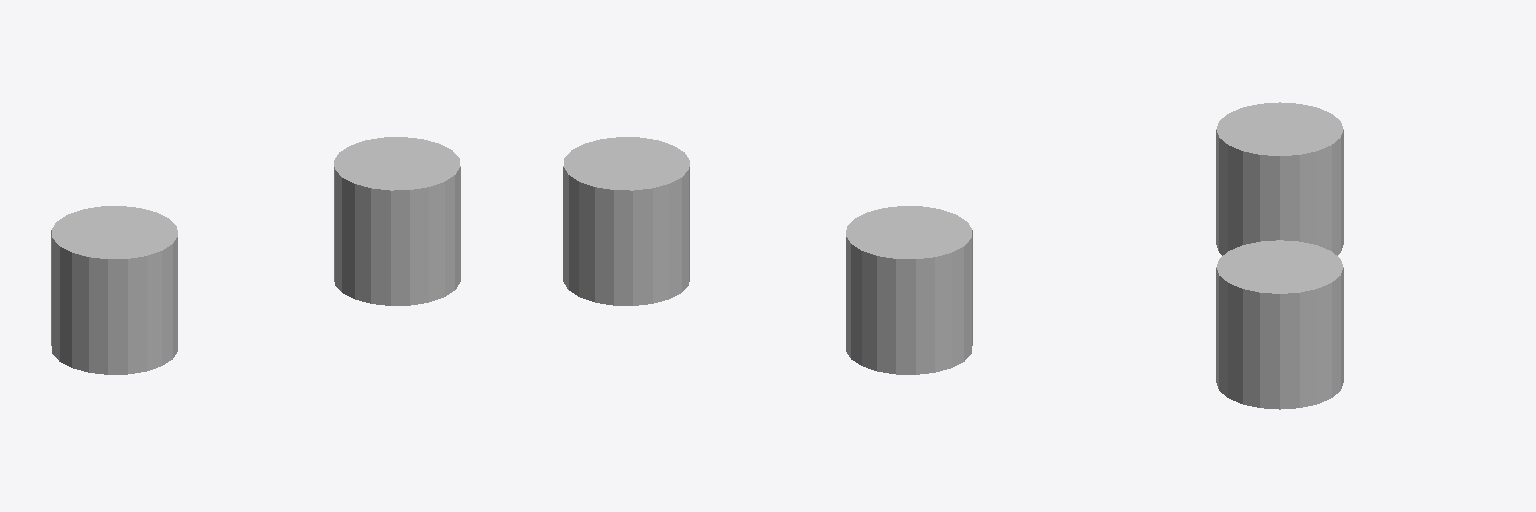
The model's file is piloni.obj.
3 renders of one model, left to right at view 1: azimuth 30°, elevation 25°; view 2: azimuth 150°, elevation 25°; view 3: azimuth 270°, elevation 25°, orthographic.
Parts seen in each view (by area): view 1: pCylinder5, pCylinder4; view 2: pCylinder5, pCylinder4; view 3: pCylinder4, pCylinder5.
Part boxes in pixels (x1,y1,x2,y2): pCylinder5: (51,206,177,374); pCylinder4: (334,137,460,305); pCylinder5: (846,206,972,374); pCylinder4: (563,137,689,305); pCylinder4: (1216,240,1343,409); pCylinder5: (1216,102,1343,255).
Bounding box in the file's own units: 7.12 × 2 × 2.